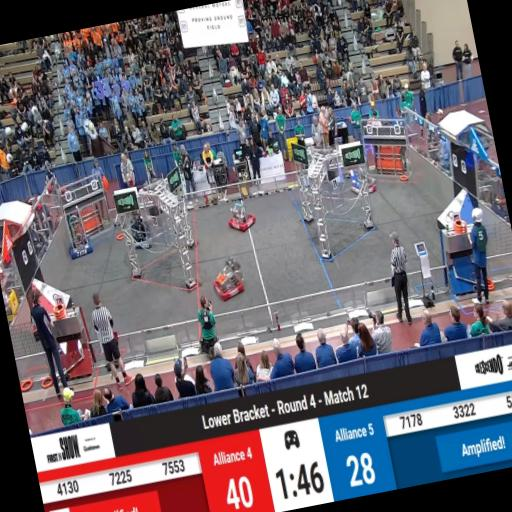robot: (211, 258, 248, 302), (64, 222, 96, 260), (225, 200, 256, 236), (348, 169, 378, 197)
